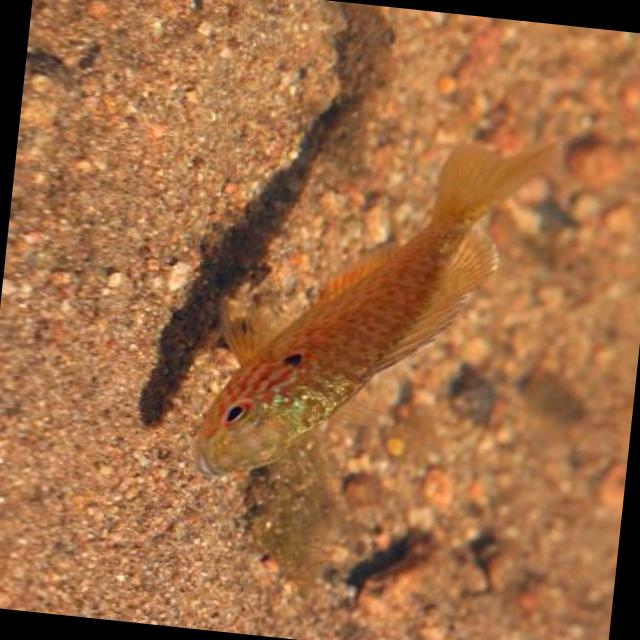Gunes Levregi: (160, 104, 571, 515)
